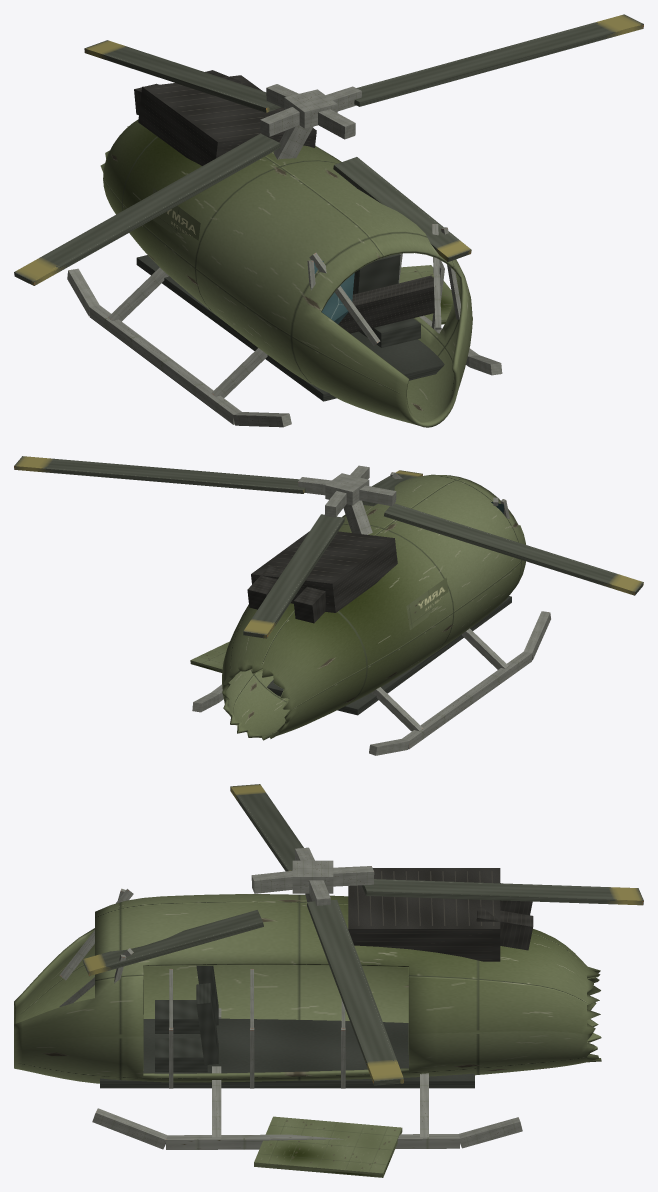
The model's file is Vehicle_MilitaryDrop_HeliWreck.fbx.
3 renders of one model, top to bottom at view 1: azimuth 30°, elevation 25°; view 2: azimuth 150°, elevation 25°; view 3: azimuth 270°, elevation 25°, orthographic. The views are drawn at different scales.
Parts seen in each view (by area): view 1: Vehicle_MilitaryDrop_HeliWreck; view 2: Vehicle_MilitaryDrop_HeliWreck; view 3: Vehicle_MilitaryDrop_HeliWreck.
Part boxes in pixels (x1,y1,x2,y2): Vehicle_MilitaryDrop_HeliWreck: [14, 14, 643, 427]; Vehicle_MilitaryDrop_HeliWreck: [14, 456, 643, 755]; Vehicle_MilitaryDrop_HeliWreck: [14, 784, 643, 1177].
Size of the model in its own units: 785 by 256 by 622.
